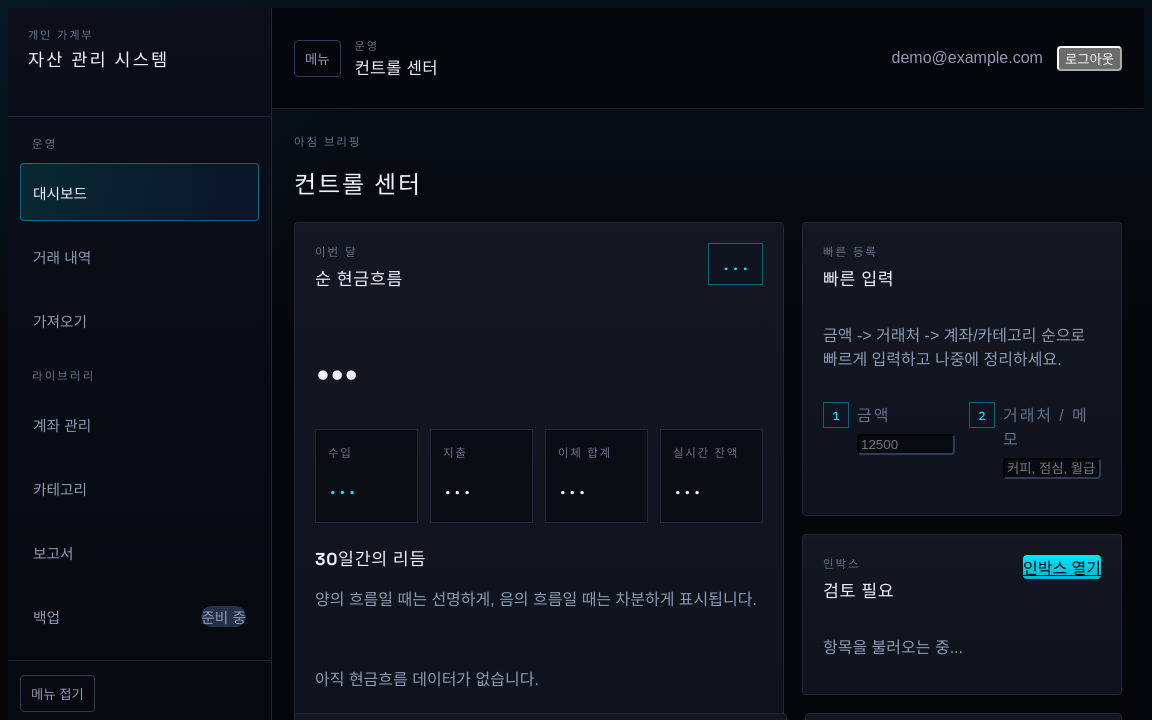
Test: App Integration › sends X-XSRF-TOKEN header for logout and redirects to auth
Expected: the heading "컨트롤 센터" is shown, [294,169,422,200]
Click the button "로그아웃" at point(1089, 58), box [1057,46,1122,70]
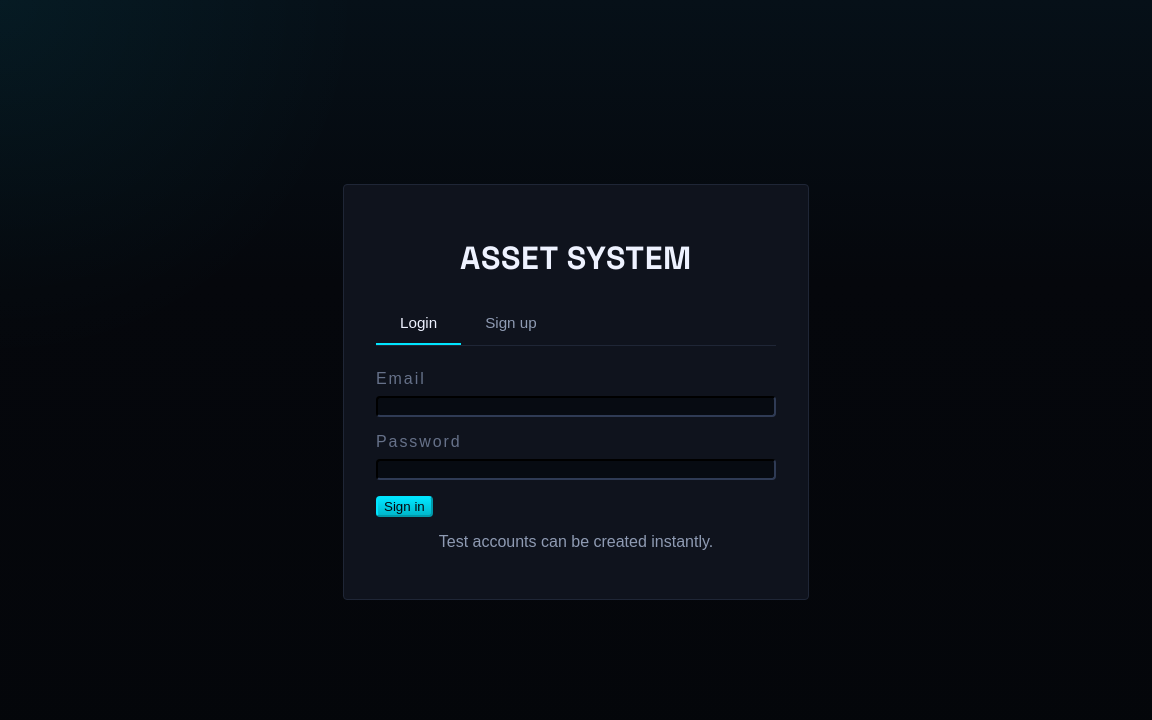
Expected: the tab "Login" is shown, [376,302,461,345]
